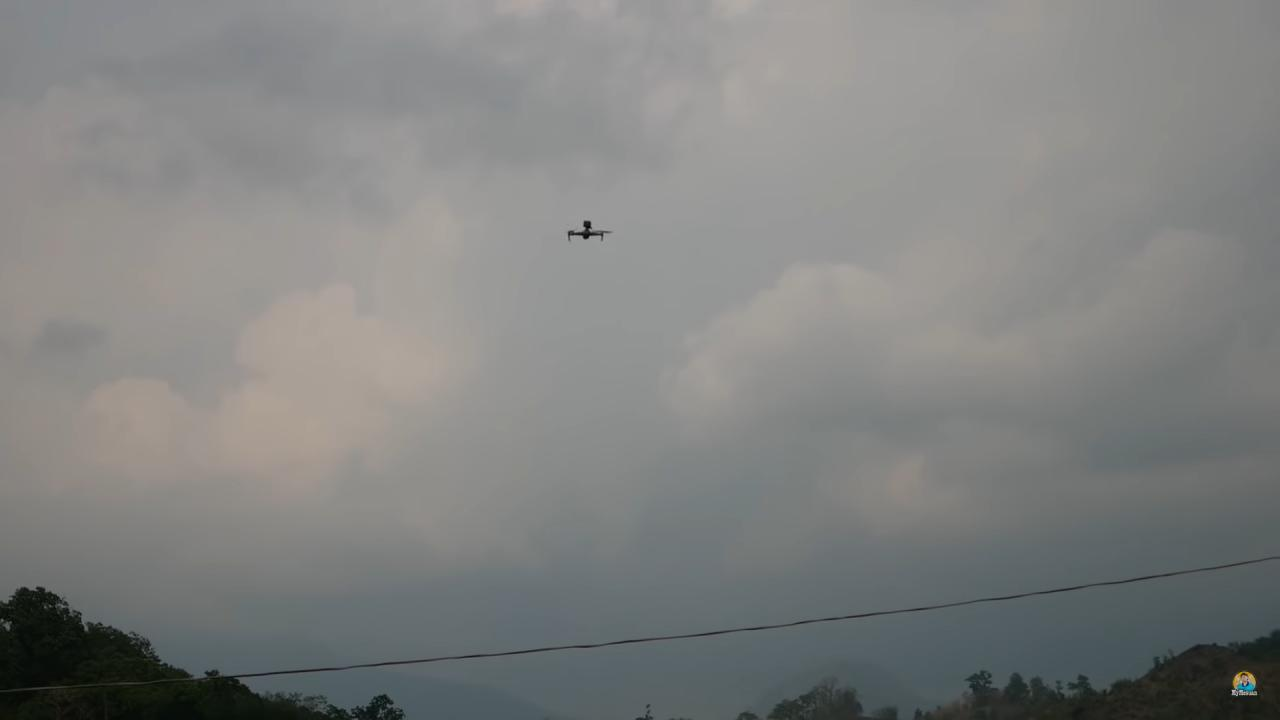Drone: (551, 208, 621, 256)
